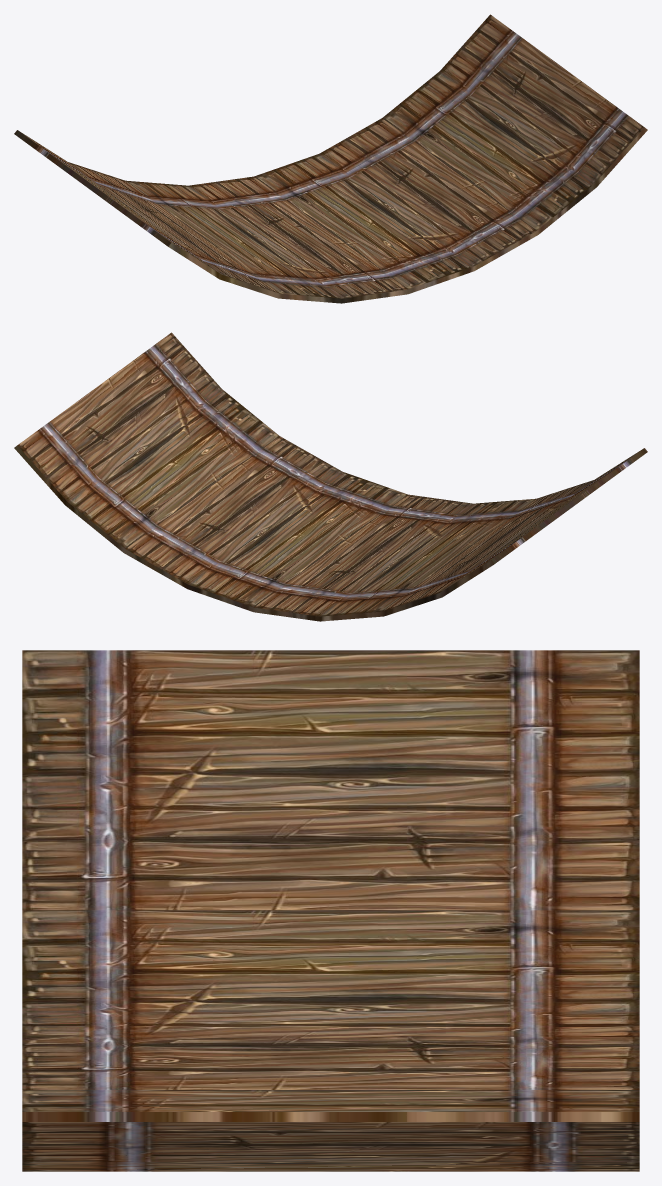
Rendered from Rack1.FBX.
3 views of the same model, one above another, from view 1: azimuth 30°, elevation 25°; view 2: azimuth 150°, elevation 25°; view 3: azimuth 270°, elevation 25° (orthographic). The views are drawn at different scales.
Parts seen in each view (by area): view 1: Box001; view 2: Box001; view 3: Box001.
Part boxes in pixels (left/top/right/bottom): Box001: left=14, top=14, right=647, bottom=303; Box001: left=14, top=332, right=647, bottom=621; Box001: left=22, top=650, right=639, bottom=1171.
Bounding box in the file's own units: 718 × 156 × 400.
1 material, 1 textured.
